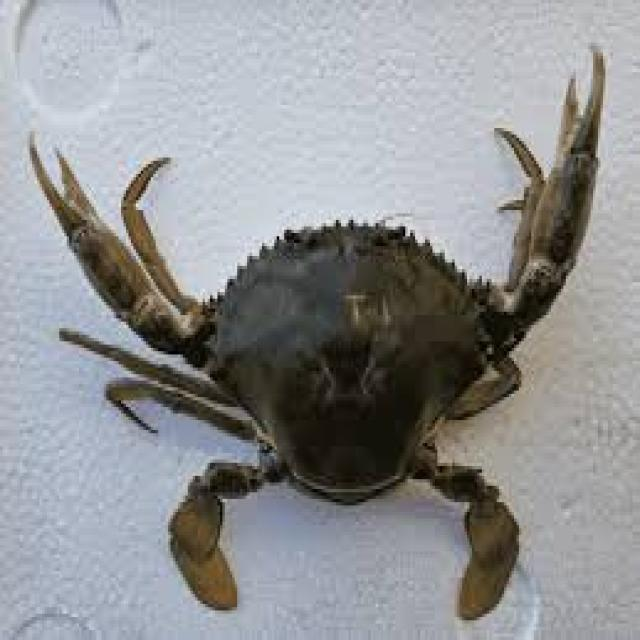crab: (146, 217, 501, 523)
